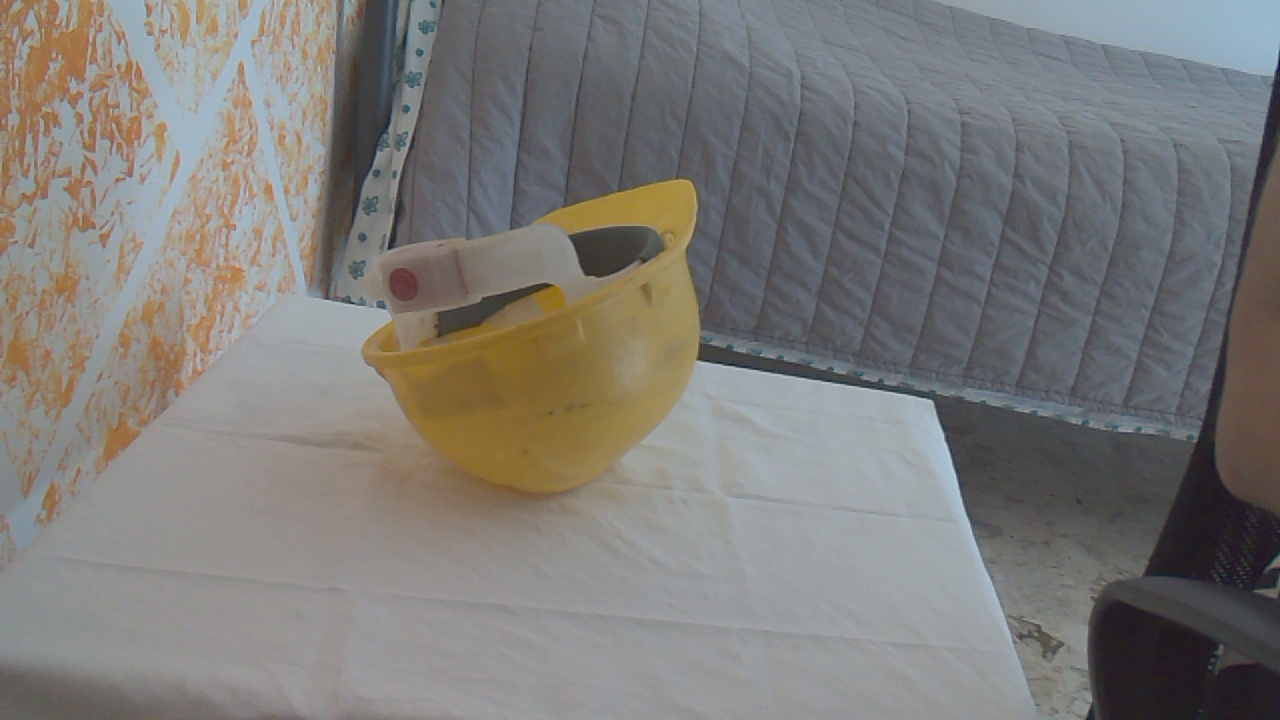Helmet: (366, 172, 728, 507)
